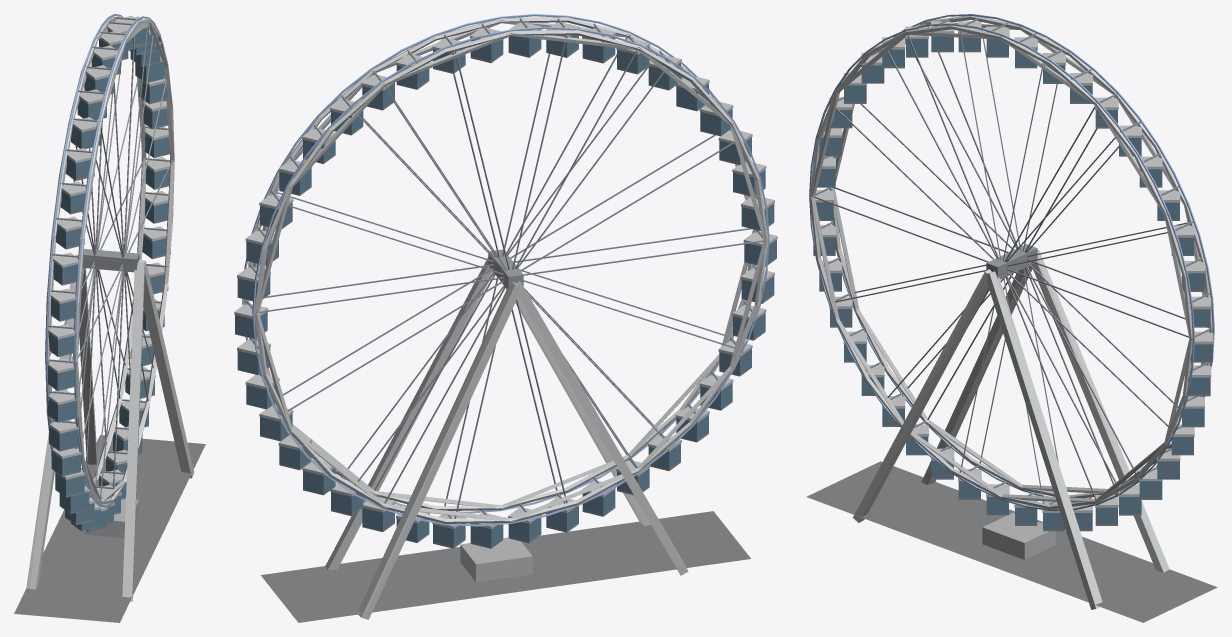
The model's file is skyview-atlanta.glb.
3 views of the same model, side by side, from view 1: azimuth 30°, elevation 25°; view 2: azimuth 150°, elevation 25°; view 3: azimuth 270°, elevation 25° (orthographic). The views are drawn at different scales.
Visible parts, largest first — view 1: lod0_lm_stone, lod0_lm_metal, lod1_lm_stone, lod0_lm_glow; view 2: lod1_lm_stone, lod0_lm_metal, lod0_lm_stone, lod0_lm_glow; view 3: lod0_lm_metal, lod1_lm_stone, lod0_lm_stone, lod0_lm_glow.
Part boxes in pixels (x1=…): lod0_lm_stone: x1=14, y1=15, x2=205, y2=622; lod0_lm_metal: x1=29, y1=16, x2=194, y2=601; lod1_lm_stone: x1=26, y1=16, x2=182, y2=601; lod0_lm_glow: x1=46, y1=14, x2=164, y2=507; lod1_lm_stone: x1=235, y1=19, x2=776, y2=619; lod0_lm_metal: x1=244, y1=17, x2=768, y2=618; lod0_lm_stone: x1=234, y1=22, x2=777, y2=622; lod0_lm_glow: x1=242, y1=14, x2=769, y2=526; lod0_lm_metal: x1=809, y1=16, x2=1212, y2=609; lod1_lm_stone: x1=811, y1=22, x2=1212, y2=557; lod0_lm_stone: x1=806, y1=21, x2=1217, y2=622; lod0_lm_glow: x1=809, y1=14, x2=1214, y2=510.
Size of the model in its own units: 40.79 by 61.1 by 43.9.
